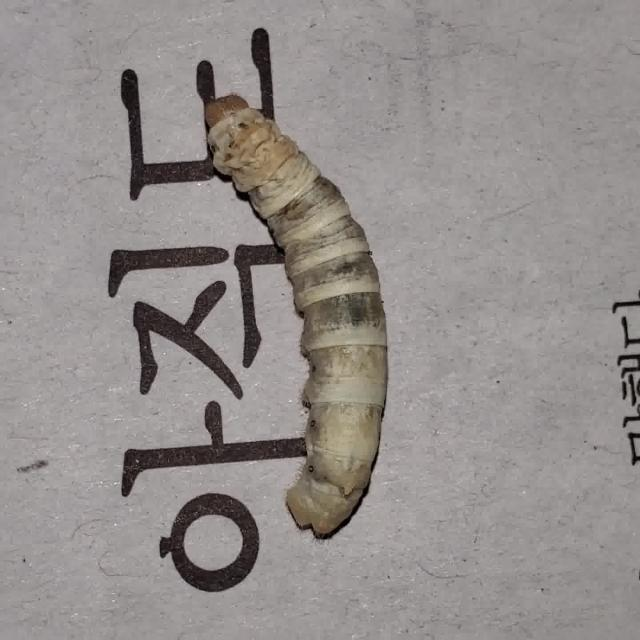Grasserie: (182, 73, 448, 568)
